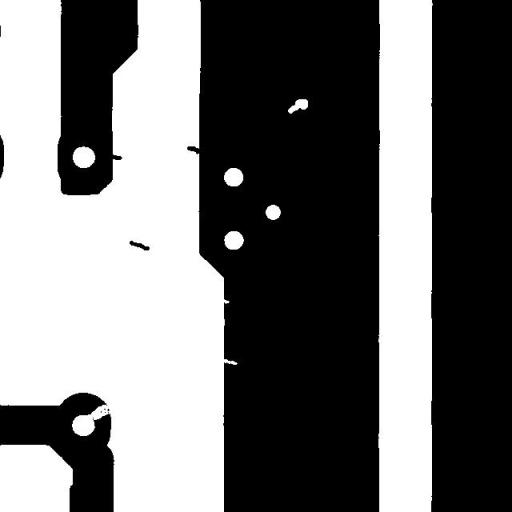copper: (122, 232, 156, 258)
mousebite: (212, 351, 245, 372), (214, 291, 236, 311)
open: (79, 397, 119, 427)
pin-hole: (280, 91, 315, 121), (258, 197, 288, 227)
spur: (179, 138, 210, 162), (102, 146, 130, 168)
